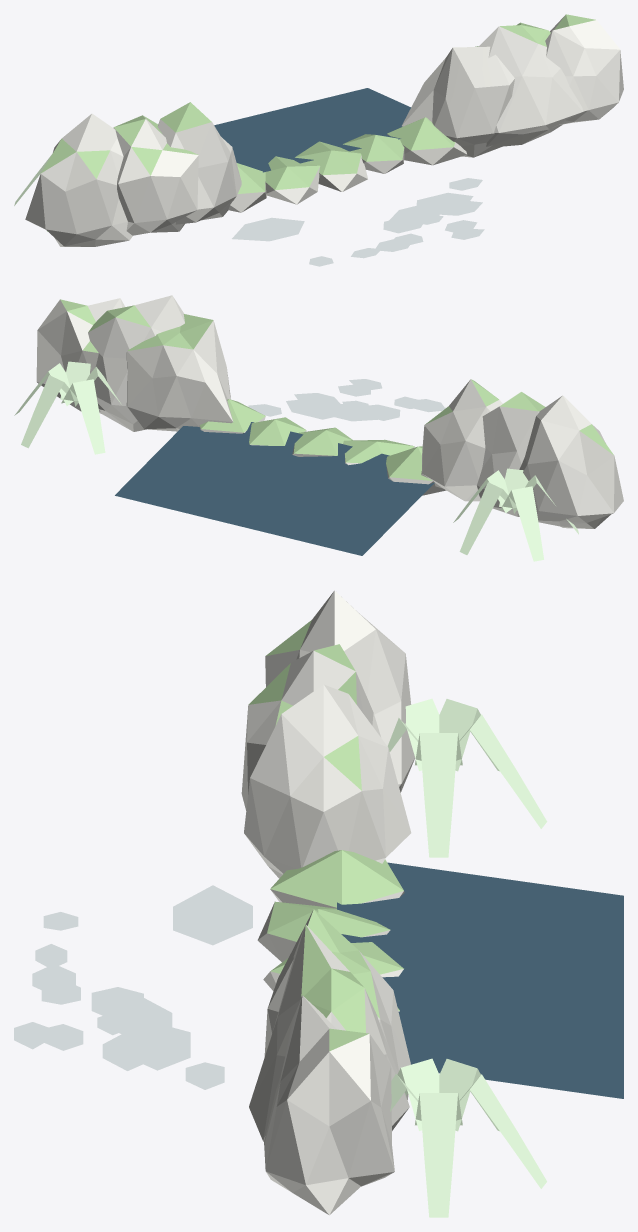
Rendered from cascade.gltf.
3 views of the same model, one above another, from view 1: azimuth 30°, elevation 25°; view 2: azimuth 150°, elevation 25°; view 3: azimuth 270°, elevation 25° (orthographic). The views are drawn at different scales.
Visible parts, largest first — view 1: cascade_Stone_Rock, cascade_Stone_Moss, cascade_Water_Run, cascade_Water_Foam; view 2: cascade_Stone_Rock, cascade_Water_Run, cascade_Stone_Moss, cascade_Fern_Frond, cascade_Water_Foam; view 3: cascade_Stone_Rock, cascade_Water_Run, cascade_Fern_Frond, cascade_Stone_Moss, cascade_Water_Foam.
Part boxes in pixels (x1,y1,x2,y2): cascade_Stone_Rock: (25, 16, 623, 246); cascade_Stone_Moss: (41, 14, 595, 193); cascade_Water_Run: (214, 88, 410, 172); cascade_Water_Foam: (232, 178, 484, 266); cascade_Stone_Rock: (36, 295, 623, 528); cascade_Water_Run: (115, 422, 434, 555); cascade_Stone_Moss: (60, 299, 613, 480); cascade_Fern_Frond: (14, 361, 578, 561); cascade_Water_Foam: (248, 379, 446, 421); cascade_Stone_Rock: (241, 590, 414, 1215); cascade_Water_Run: (337, 862, 623, 1098); cascade_Fern_Frond: (387, 698, 547, 1217); cascade_Stone_Moss: (248, 620, 403, 1051); cascade_Water_Foam: (14, 885, 252, 1089).
Size of the model in its own units: 6.14 by 1.36 by 3.29.
